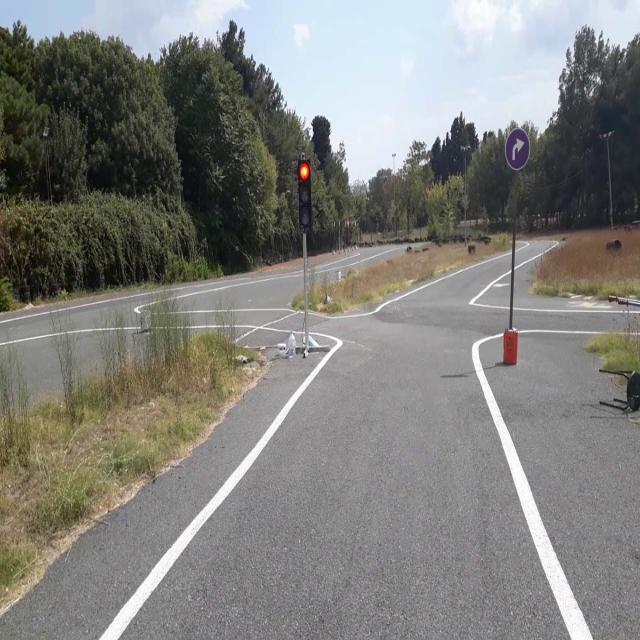kirmizi: (298, 158, 312, 228)
sag: (506, 130, 531, 170)
